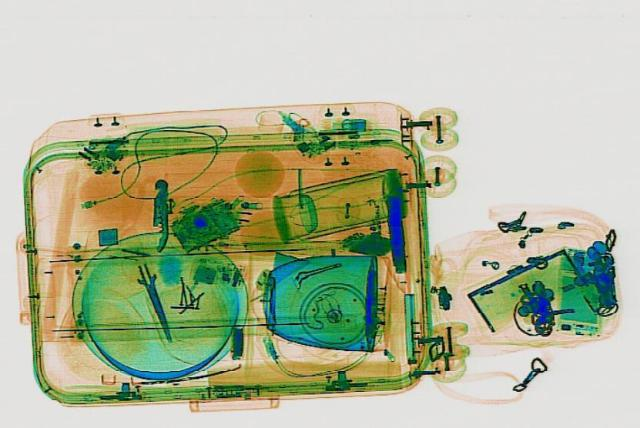Knife: (130, 260, 180, 341)
